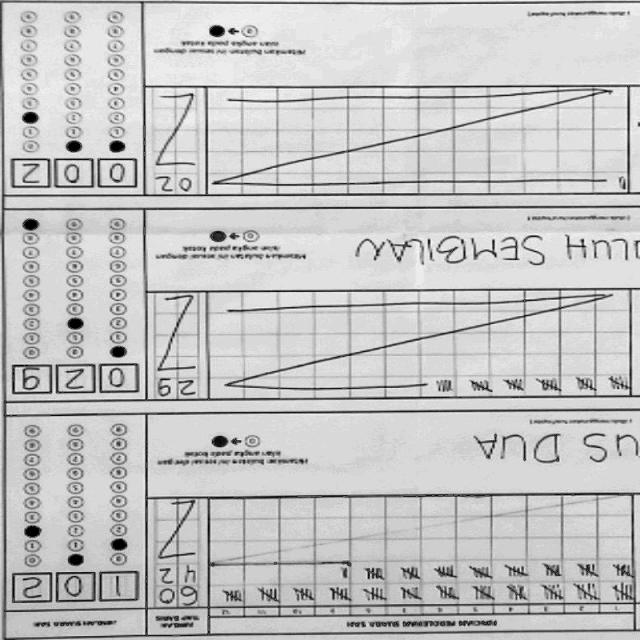Suara: (10, 156, 144, 194), (8, 569, 143, 606), (8, 362, 142, 399)
